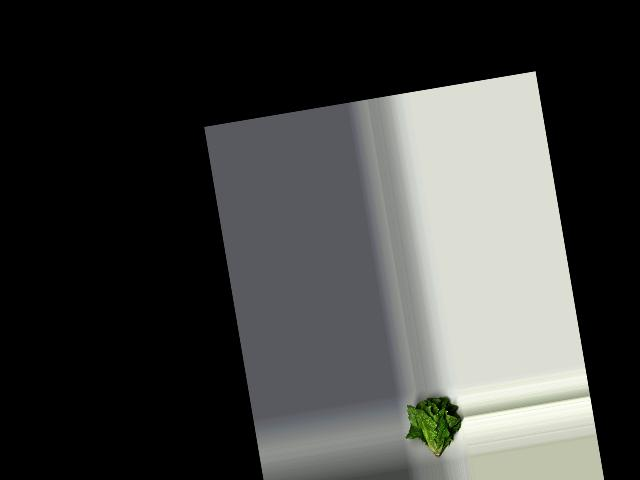lettuce: (405, 390, 466, 463)
